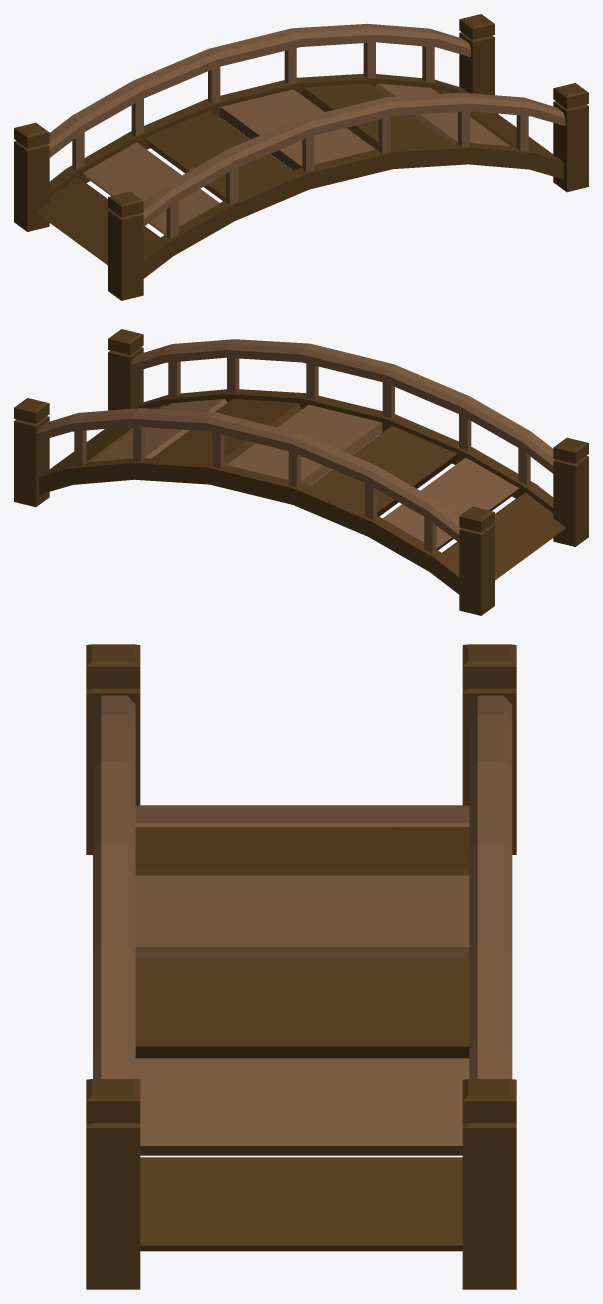
Rendered from Bridge.gltf.
3 views of the same model, one above another, from view 1: azimuth 30°, elevation 25°; view 2: azimuth 150°, elevation 25°; view 3: azimuth 270°, elevation 25° (orthographic). The views are drawn at different scales.
Parts seen in each view (by area): view 1: Bridge_glb; view 2: Bridge_glb; view 3: Bridge_glb.
Part boxes in pixels (box(x1,y1,x2,y2)): Bridge_glb: box(14, 14, 588, 300); Bridge_glb: box(14, 329, 588, 615); Bridge_glb: box(86, 644, 516, 1289).
Size of what is drawn, in the model's own units: 6.87 by 1.82 by 2.74.
1 material, 1 textured.
